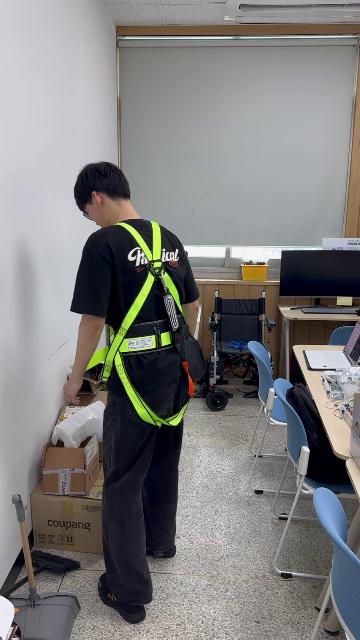helmet_not_worn: (69, 161, 134, 211)
shoe_worn: (98, 575, 146, 625), (148, 544, 176, 559)
vest_worn: (90, 225, 197, 419)
